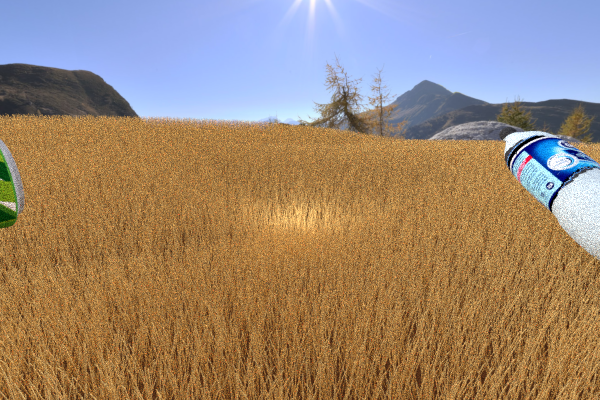Plastic Bottle: (499, 126, 600, 275), (0, 126, 24, 324)
